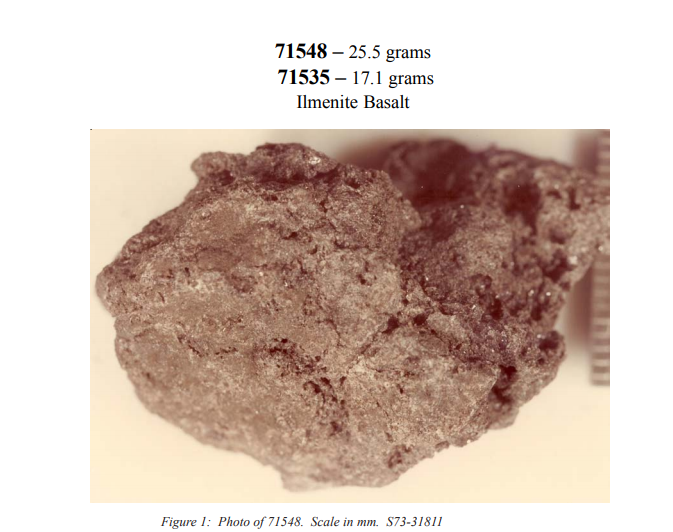Basalt: (132, 144, 607, 483), (213, 183, 498, 371)
